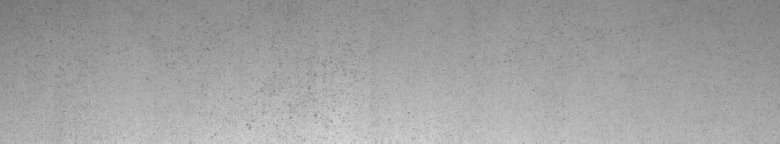ib: (246, 60, 333, 130)
